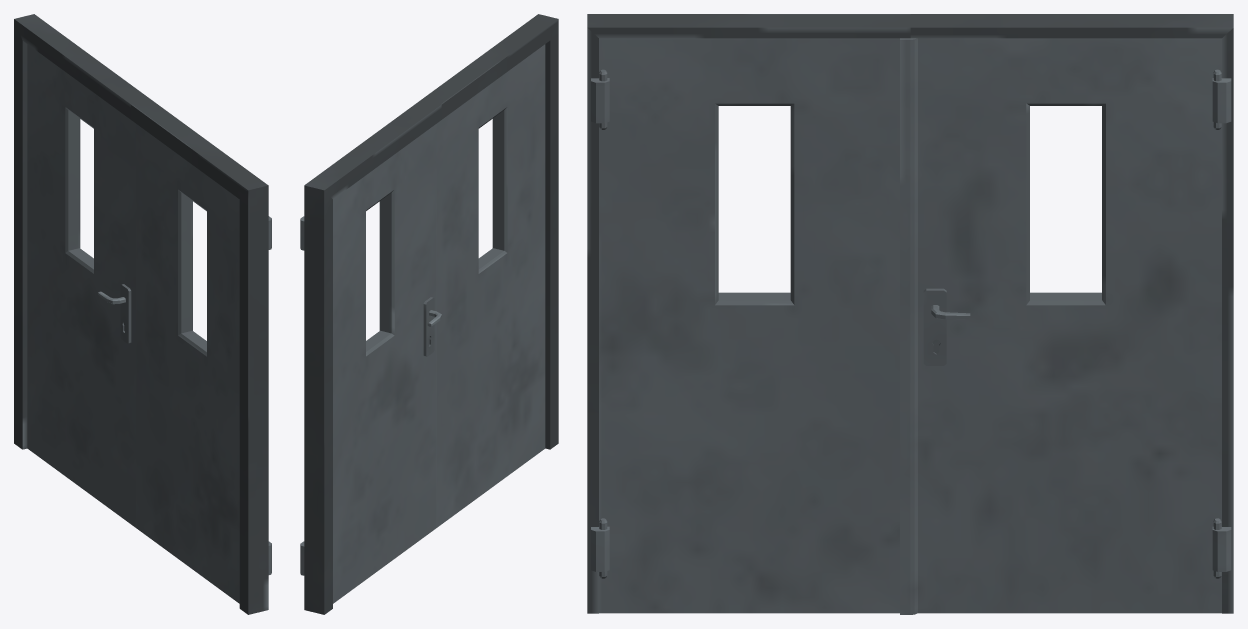
File: Metal door2x2.fbx
The picture shows the model from 3 angles, left to right: view 1: azimuth 30°, elevation 25°; view 2: azimuth 150°, elevation 25°; view 3: azimuth 270°, elevation 25°; orthographic projection. The views are drawn at different scales.
Parts seen in each view (by area): view 1: Door 1, Door 2, Door 2x2; view 2: Door 2, Door 1, Door 2x2; view 3: Door 1, Door 2, Door 2x2.
Part boxes in pixels (x1,y1,x2,y2): Door 1: (27, 44, 135, 527); Door 2: (136, 124, 239, 603); Door 2x2: (14, 14, 271, 614); Door 2: (436, 44, 545, 527); Door 1: (333, 124, 441, 603); Door 2x2: (300, 14, 558, 614); Door 1: (900, 38, 1221, 614); Door 2: (599, 38, 899, 613); Door 2x2: (587, 14, 1233, 613).
Size of the model in its own units: 23.63 by 200 by 200.
Materials: 1 (1 with a texture image).
